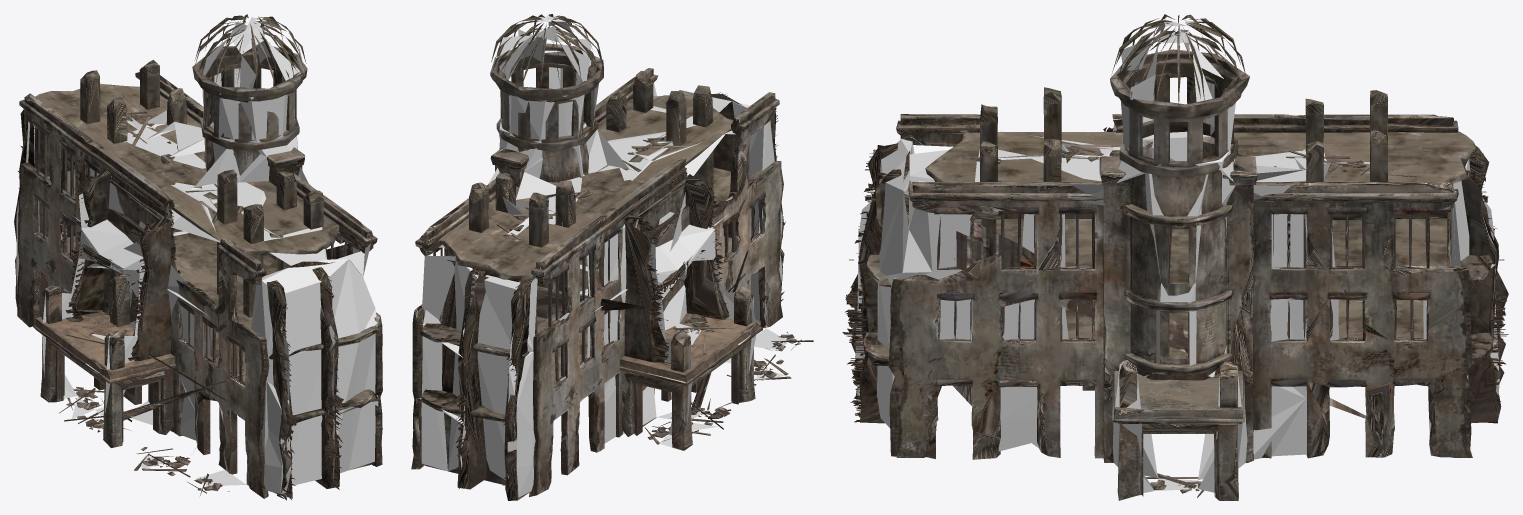
File: hall.glb
3 views of the same model, side by side, from view 1: azimuth 30°, elevation 25°; view 2: azimuth 150°, elevation 25°; view 3: azimuth 270°, elevation 25° (orthographic). The views are drawn at different scales.
Parts seen in each view (by area): view 1: XI_WDS_Hall_Back_mat, COL, XI_WDS_Hall_TopInt_mat, XI_WDS_Hall_Sides_mat, XI_WDS_Hall_Front_mat, XI_WDS_B_Hall_BRICKS_mat; view 2: XI_WDS_Hall_Back_mat, COL, XI_WDS_Hall_TopInt_mat, XI_WDS_Hall_Sides_mat, XI_WDS_Hall_Front_mat, XI_WDS_B_Hall_BRICKS_mat; view 3: XI_WDS_Hall_Front_mat, XI_WDS_Hall_TopInt_mat, COL, XI_WDS_Hall_Sides_mat, XI_WDS_Hall_Back_mat, XI_WDS_B_Hall_BRICKS_mat.
Boxes of the visible parts, x1,y1,x2,y2 form: XI_WDS_Hall_Back_mat: (17, 93, 269, 498); COL: (16, 17, 378, 493); XI_WDS_Hall_TopInt_mat: (35, 14, 339, 381); XI_WDS_Hall_Sides_mat: (14, 94, 380, 498); XI_WDS_Hall_Front_mat: (103, 67, 382, 466); XI_WDS_B_Hall_BRICKS_mat: (18, 128, 343, 500); XI_WDS_Hall_Back_mat: (529, 92, 813, 496); COL: (416, 16, 787, 497); XI_WDS_Hall_TopInt_mat: (436, 14, 732, 381); XI_WDS_Hall_Sides_mat: (419, 90, 784, 500); XI_WDS_Hall_Front_mat: (411, 68, 689, 469); XI_WDS_B_Hall_BRICKS_mat: (415, 92, 785, 497); XI_WDS_Hall_Front_mat: (888, 130, 1472, 500); XI_WDS_Hall_TopInt_mat: (925, 14, 1477, 356); COL: (855, 19, 1499, 497); XI_WDS_Hall_Sides_mat: (851, 127, 1508, 423); XI_WDS_Hall_Back_mat: (896, 114, 1458, 390); XI_WDS_B_Hall_BRICKS_mat: (842, 127, 1508, 423).
Bounding box in the file's own units: 9.67 × 12.39 × 17.28.
5 materials, 5 textured.
